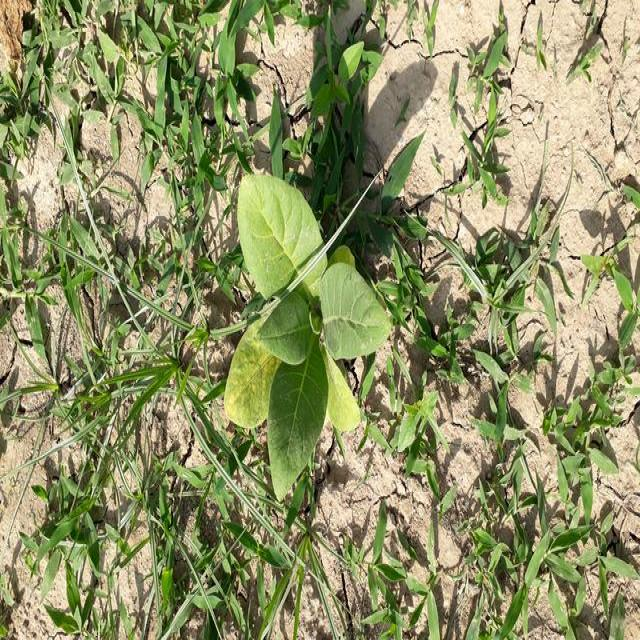crop: (222, 166, 386, 490)
